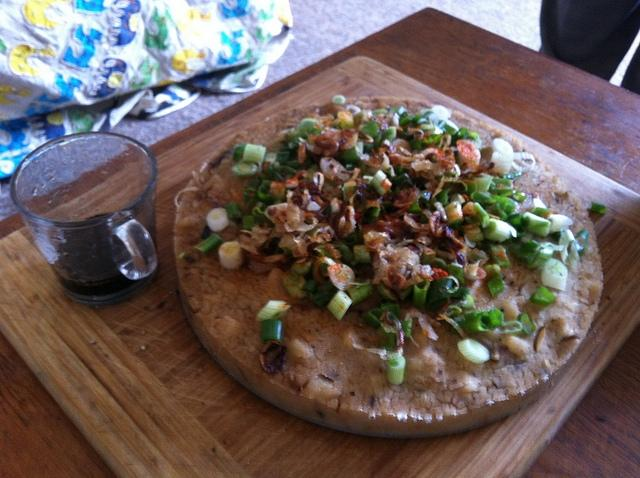green onion: (479, 138, 513, 175), (425, 276, 459, 308), (540, 258, 568, 291), (458, 338, 490, 365), (484, 218, 517, 243), (218, 240, 245, 270), (327, 290, 353, 321), (522, 212, 552, 236), (309, 283, 339, 307), (256, 300, 290, 321), (282, 273, 308, 299), (464, 311, 494, 333), (526, 246, 554, 269), (346, 284, 374, 306), (487, 195, 515, 216), (488, 243, 512, 267), (412, 279, 430, 311), (206, 208, 230, 232), (194, 234, 222, 254), (338, 141, 362, 164), (388, 355, 406, 384), (530, 286, 556, 306), (261, 319, 282, 343), (242, 144, 266, 165), (506, 213, 526, 237), (332, 241, 354, 262), (370, 169, 387, 196), (548, 214, 573, 232), (473, 203, 491, 228), (487, 274, 505, 298), (231, 160, 258, 176), (364, 308, 384, 329), (382, 300, 402, 320), (472, 191, 494, 208), (380, 328, 396, 351), (354, 244, 372, 264), (530, 198, 548, 218), (501, 320, 523, 336), (379, 126, 396, 146), (448, 263, 464, 284), (285, 128, 308, 142), (409, 114, 431, 128), (362, 120, 379, 138), (225, 203, 243, 220), (232, 143, 248, 162), (256, 184, 272, 203), (431, 104, 448, 120), (292, 262, 312, 275), (252, 201, 268, 217), (460, 294, 475, 311), (513, 188, 528, 203), (264, 164, 278, 180), (286, 159, 300, 174), (488, 189, 514, 197), (242, 216, 255, 232), (402, 318, 412, 338), (408, 200, 422, 214), (275, 152, 289, 166), (452, 315, 466, 329), (454, 128, 469, 141), (508, 246, 524, 258), (303, 280, 317, 293), (590, 202, 606, 213), (332, 94, 346, 106), (489, 211, 504, 221), (399, 116, 412, 126), (371, 207, 381, 217), (398, 106, 407, 116), (288, 142, 298, 151), (308, 128, 320, 134)
